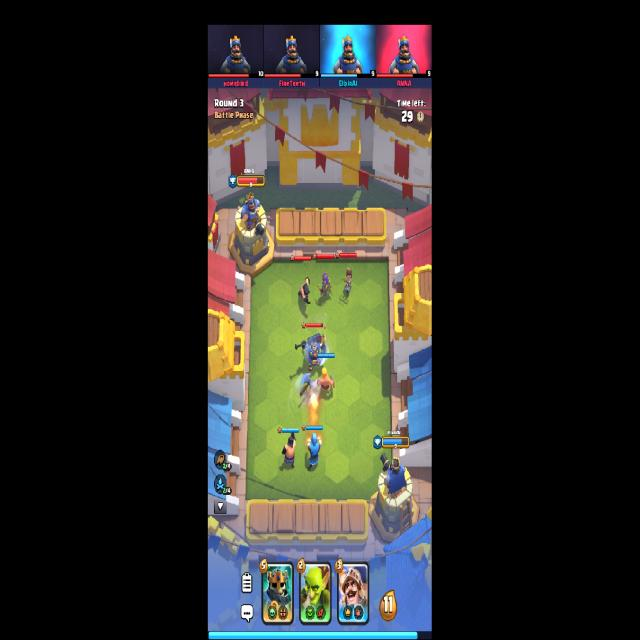archer_queen: (317, 273, 332, 298)
barbarian: (317, 367, 335, 395)
executioner: (280, 432, 298, 468), (296, 275, 310, 303)
princess: (342, 268, 354, 298)
skeleton_king: (294, 331, 330, 373)
wizard: (308, 433, 322, 468)
